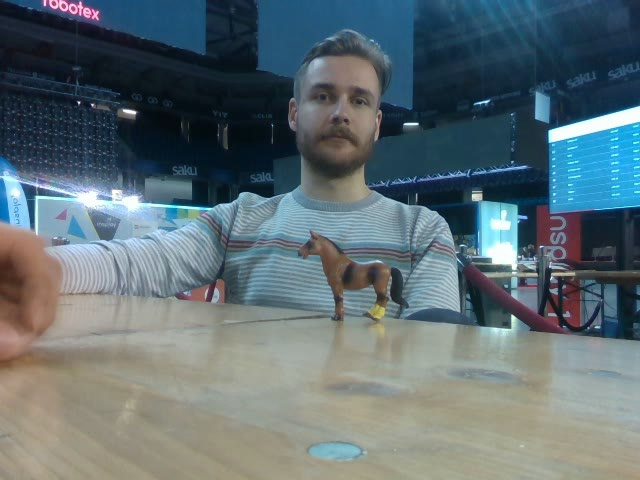toy: (296, 226, 414, 326)
